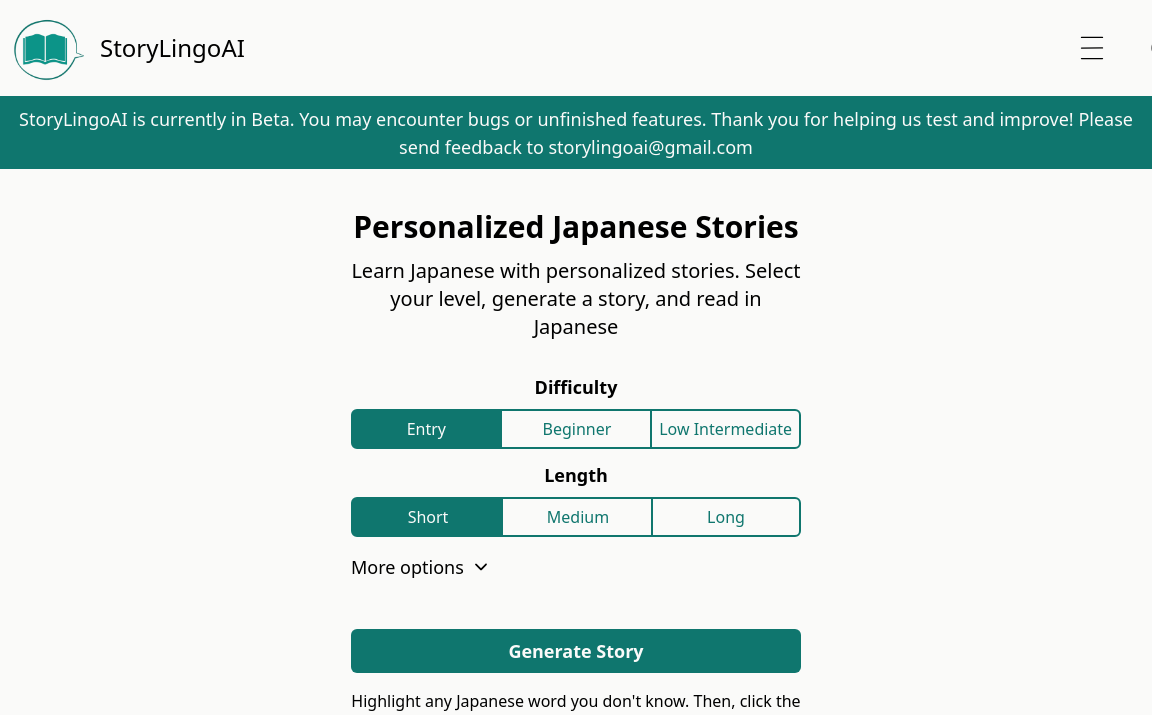
Test case: Menu Options › clicking words to learn button opens words to learn modal
The width and height of the screenshot is (1152, 715).
Click the element with id "menu-burger-id" at (1092, 48), box [1077, 33, 1107, 63]
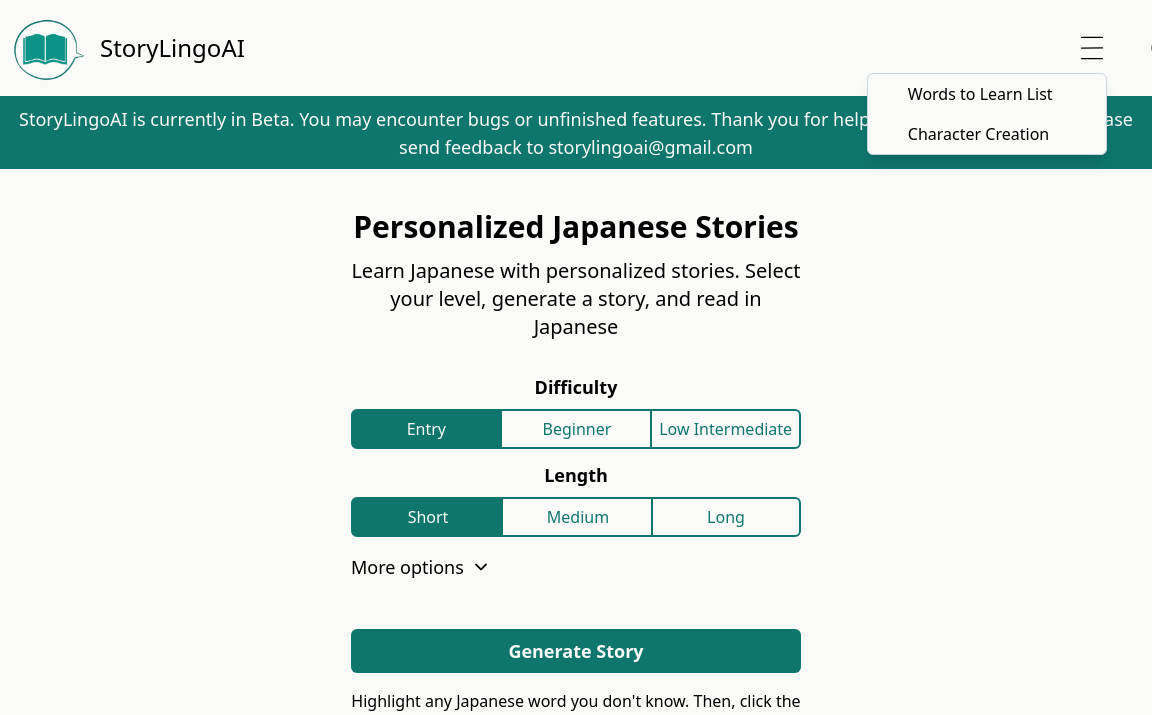
Click the text with id "words-learn-id" at (981, 94), box [908, 83, 1053, 105]
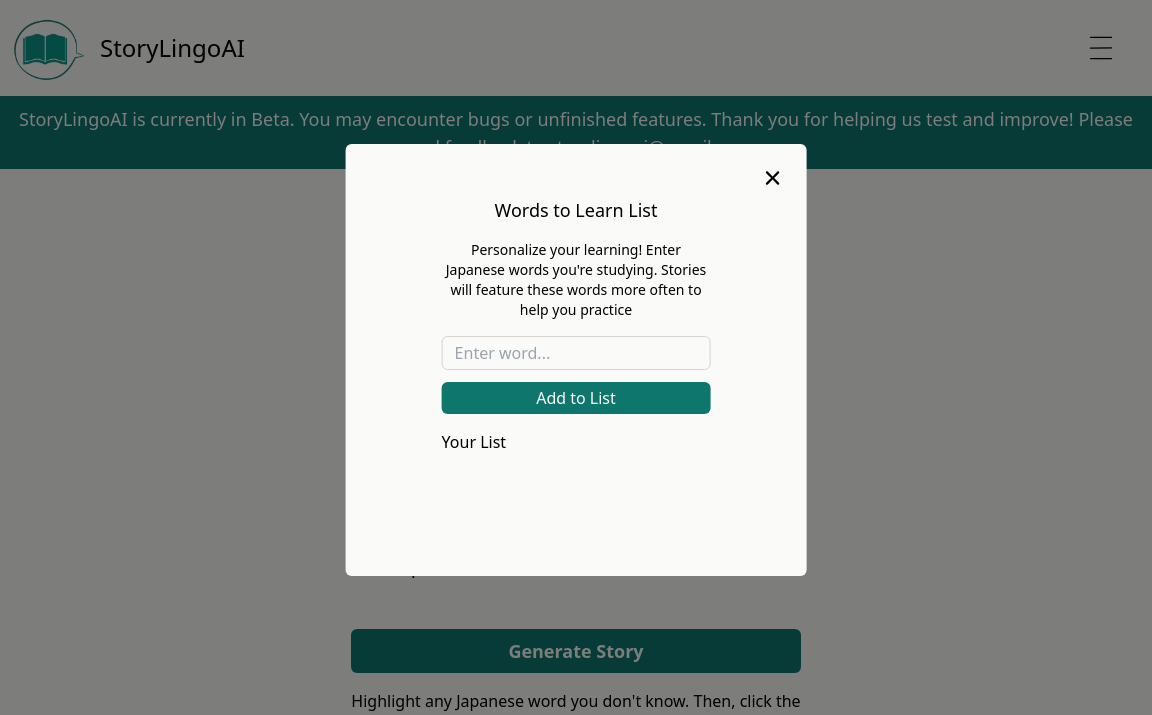
Now the button with id "add-to-list-button" is shown, box [442, 382, 711, 414]
Now the field with id "word-input" is shown, box [442, 336, 711, 370]
